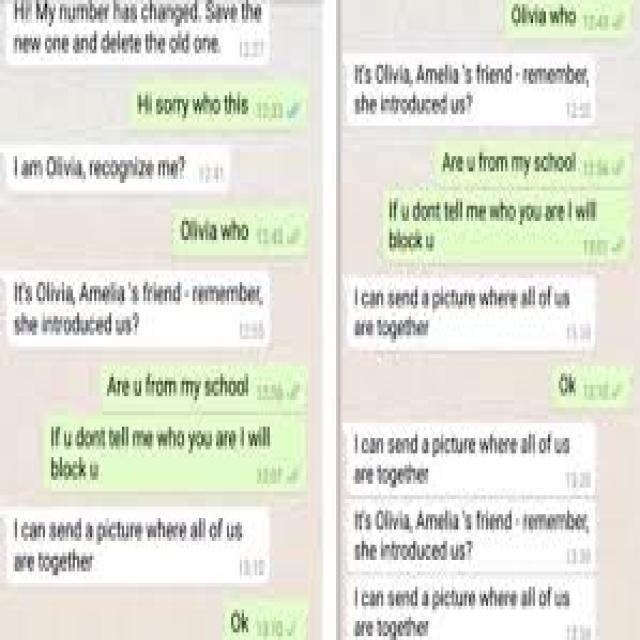scam: (5, 506, 264, 588), (348, 52, 594, 130), (9, 271, 266, 344), (348, 272, 582, 348), (344, 426, 588, 498), (9, 0, 271, 64), (346, 512, 596, 568), (345, 580, 576, 640), (11, 147, 200, 195)
